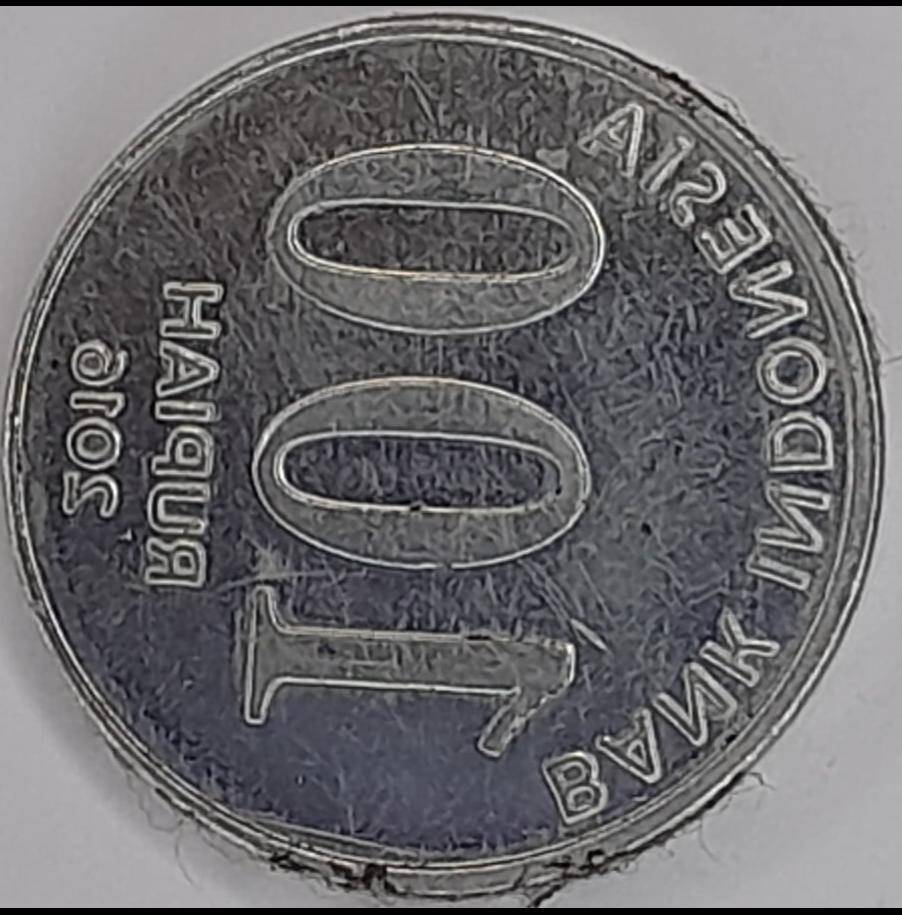coin_100_e2016: (0, 9, 892, 903)
